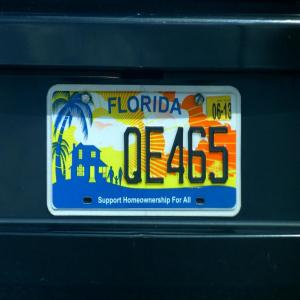Vehicle-registration-plate: (48, 86, 244, 218)
